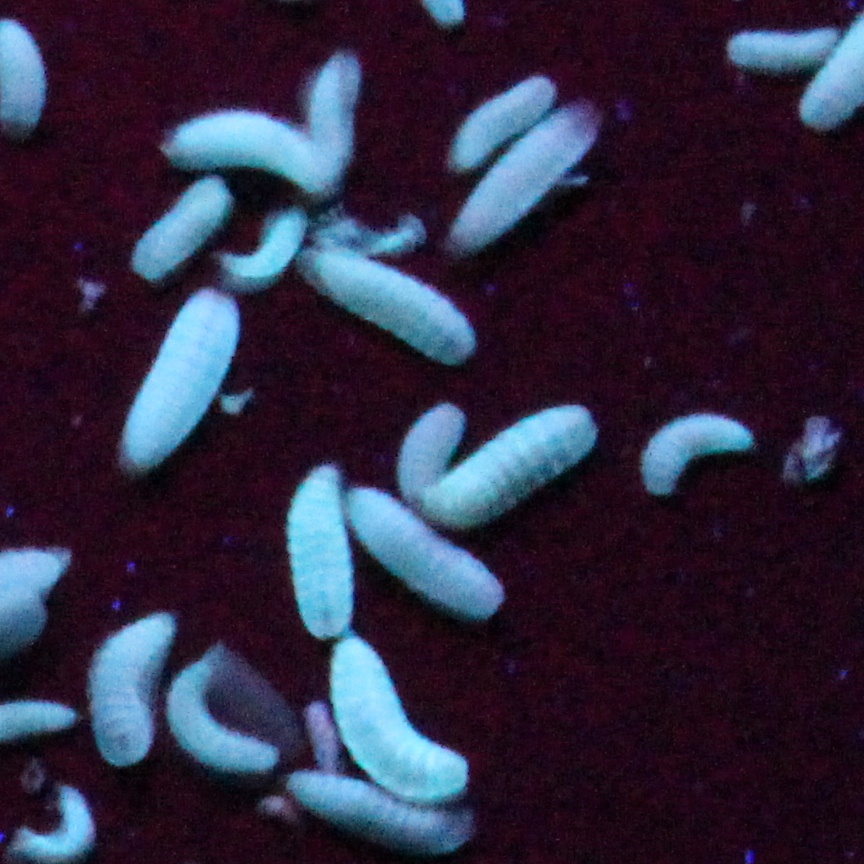larve: (339, 629, 472, 809), (305, 232, 469, 374), (353, 482, 502, 624), (459, 109, 599, 256), (126, 289, 219, 469), (446, 416, 592, 529), (279, 455, 363, 645), (166, 100, 340, 190), (169, 655, 276, 790), (292, 771, 466, 851), (99, 596, 172, 782), (646, 402, 752, 509), (127, 184, 227, 274), (305, 45, 366, 168), (237, 219, 305, 284), (737, 29, 831, 74)
